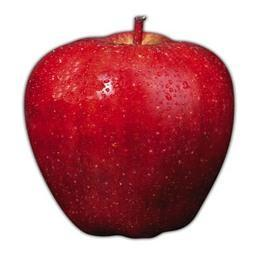apple: (23, 24, 236, 239)
